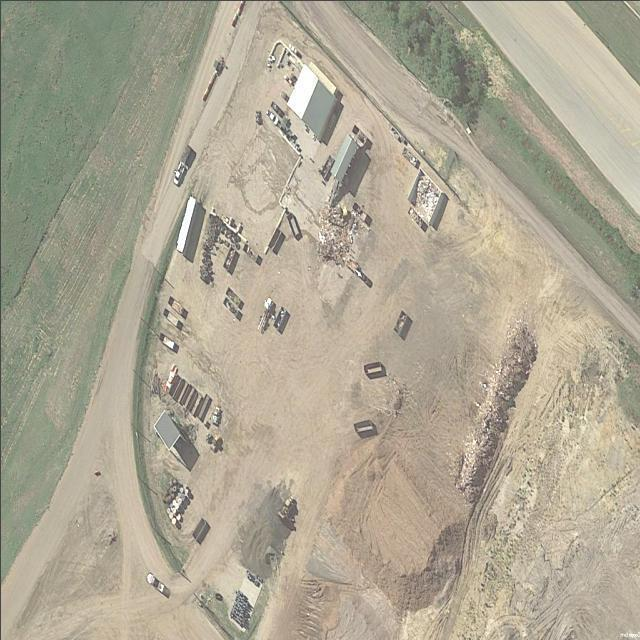dump_site: (303, 188, 361, 281), (404, 169, 439, 221)
